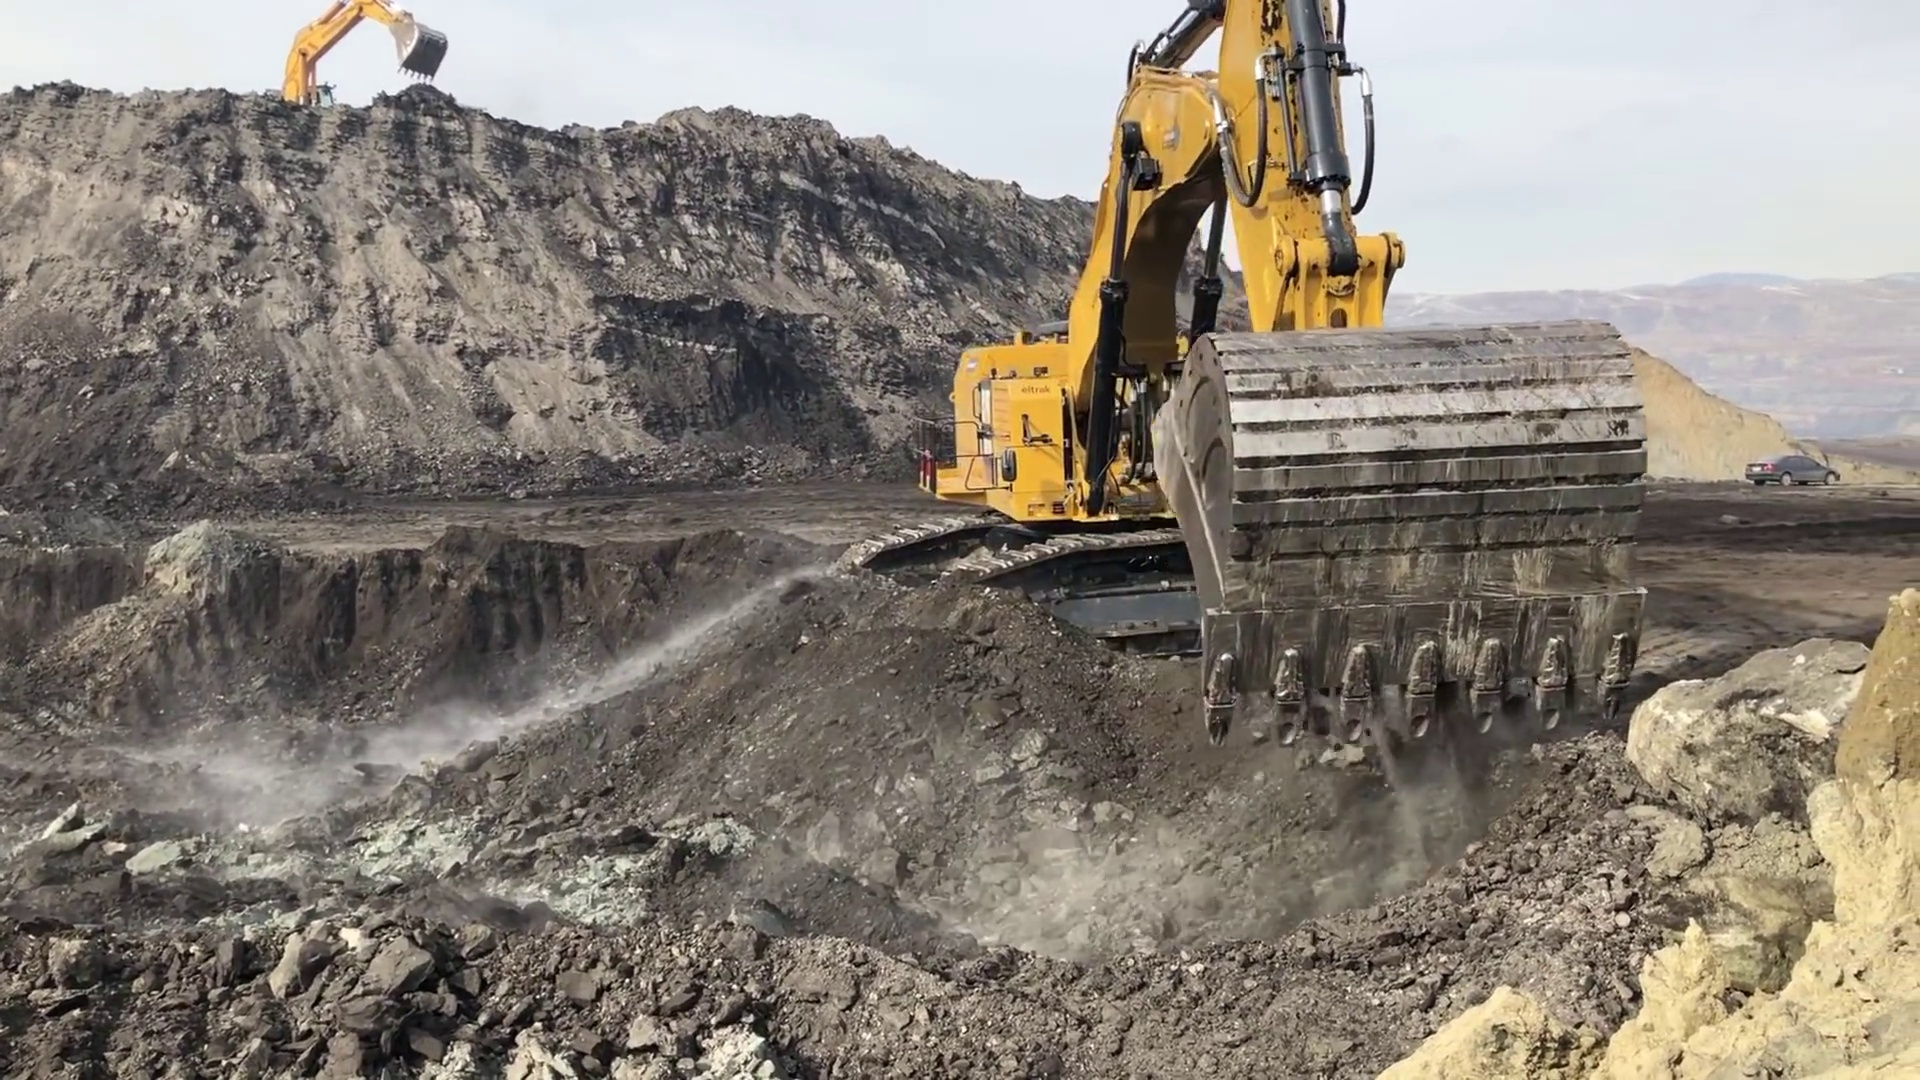car: (1742, 459, 1847, 496)
excavator: (833, 9, 1650, 754), (253, 1, 450, 128)
